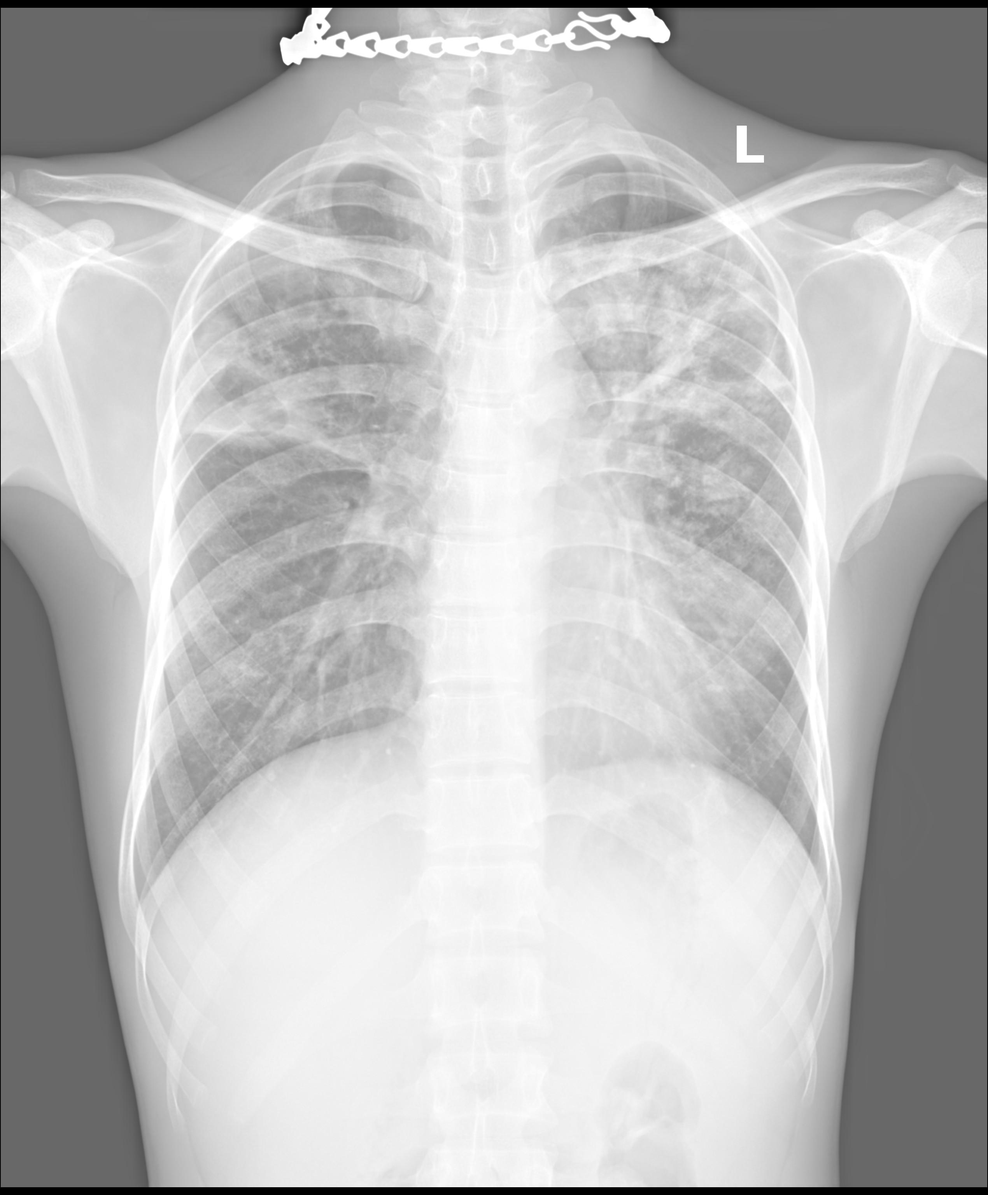Pulmonary fibrosis: (552, 227, 780, 676), (196, 271, 405, 462)
